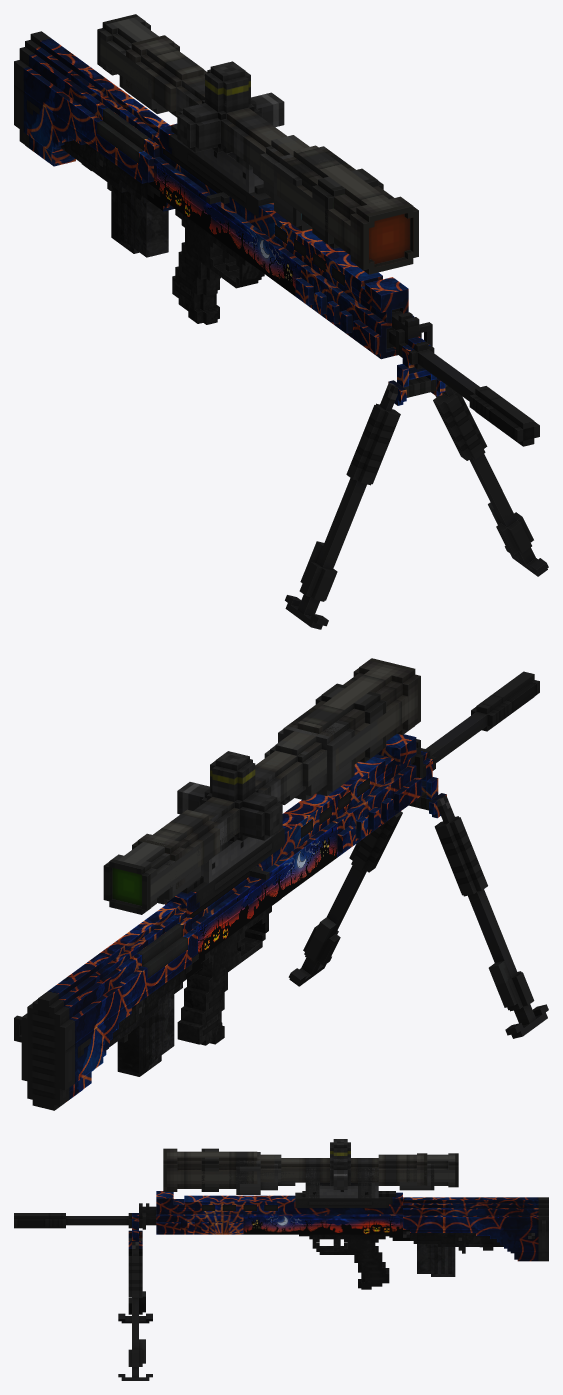
File: RD_QBU88_SCARY.glb
The picture shows the model from 3 angles, top to bottom: view 1: azimuth 30°, elevation 25°; view 2: azimuth 150°, elevation 25°; view 3: azimuth 270°, elevation 25°; orthographic projection. The views are drawn at different scales.
Parts seen in each view (by area): view 1: QBU88, SCOPE_NIGHTFORCE, SCOPE_LEUPOLD, QBU88_DIPOD_LEG1, QBU88_DIPOD_LEG2, QBU88_CLIP, SCOPE_SCHMIDT_BENDER; view 2: QBU88, SCOPE_LEUPOLD, SCOPE_NIGHTFORCE, QBU88_DIPOD_LEG1, QBU88_DIPOD_LEG2, SCOPE_SCHMIDT_BENDER, QBU88_CLIP; view 3: QBU88, SCOPE_NIGHTFORCE, SCOPE_LEUPOLD, SCOPE_SCHMIDT_BENDER, QBU88_DIPOD_LEG2, QBU88_CLIP, QBU88_DIPOD_LEG1.
Part boxes in pixels (box(x1,y1,x2,y2)): QBU88: box(14, 31, 539, 446); SCOPE_NIGHTFORCE: box(126, 35, 418, 274); SCOPE_LEUPOLD: box(97, 14, 383, 248); QBU88_DIPOD_LEG1: box(285, 383, 400, 629); QBU88_DIPOD_LEG2: box(433, 384, 548, 576); QBU88_CLIP: box(111, 185, 168, 257); SCOPE_SCHMIDT_BENDER: box(119, 43, 343, 231); QBU88: box(14, 671, 539, 1110); SCOPE_LEUPOLD: box(103, 683, 386, 914); SCOPE_NIGHTFORCE: box(132, 658, 420, 888); QBU88_DIPOD_LEG1: box(434, 795, 548, 1038); QBU88_DIPOD_LEG2: box(288, 811, 402, 986); SCOPE_SCHMIDT_BENDER: box(157, 720, 354, 904); QBU88_CLIP: box(117, 994, 174, 1076); QBU88: box(14, 1191, 548, 1289); SCOPE_NIGHTFORCE: box(163, 1148, 427, 1198); SCOPE_LEUPOLD: box(201, 1139, 458, 1198); SCOPE_SCHMIDT_BENDER: box(236, 1152, 434, 1198); QBU88_DIPOD_LEG2: box(118, 1242, 152, 1380); QBU88_CLIP: box(417, 1244, 455, 1276); QBU88_DIPOD_LEG1: box(118, 1238, 152, 1323).
Size of the model in its own units: 0.4209 by 0.657 by 1.52.
Materials: 4 (4 with a texture image).
